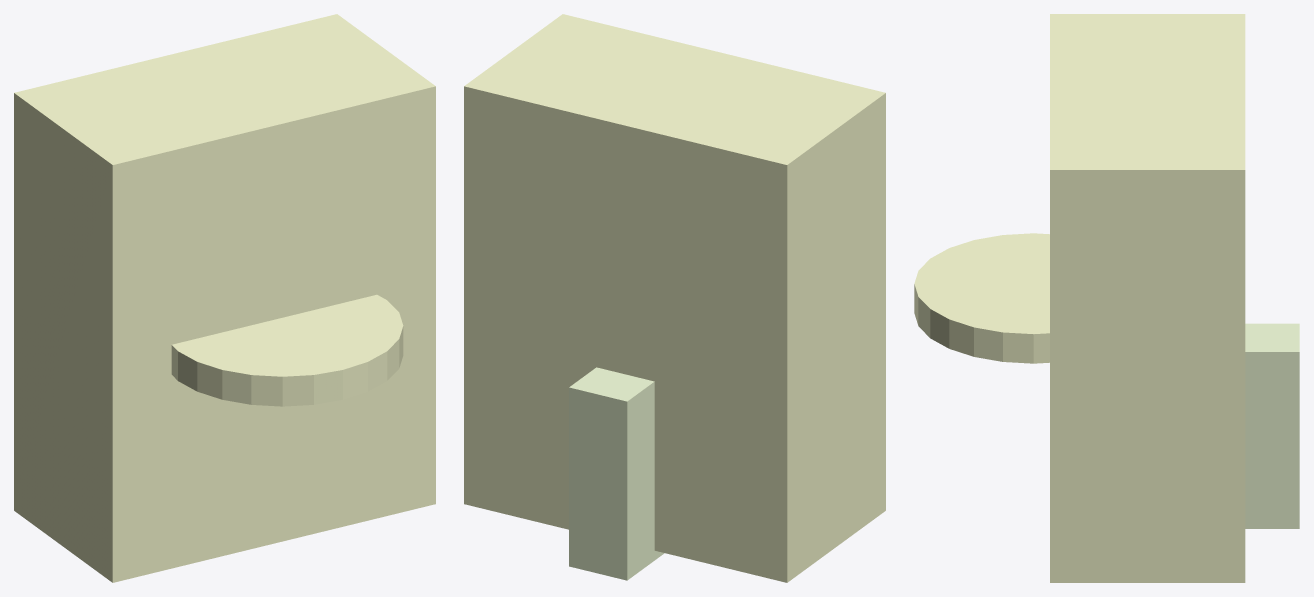
The model's file is signal_preemption_beacon_lunar_single.glb.
3 views of the same model, side by side, from view 1: azimuth 30°, elevation 25°; view 2: azimuth 150°, elevation 25°; view 3: azimuth 270°, elevation 25° (orthographic).
Visible parts, largest first — view 1: housing, lens_preempt_lunar; view 2: housing, bracket; view 3: housing, lens_preempt_lunar, bracket.
Part boxes in pixels (x1,y1,x2,y2): housing: (14, 14, 435, 582); lens_preempt_lunar: (171, 294, 403, 406); housing: (464, 14, 885, 582); bracket: (569, 367, 664, 580); housing: (1050, 14, 1245, 582); lens_preempt_lunar: (914, 233, 1049, 363); bracket: (1245, 323, 1299, 528).
Size of the model in its own units: 0.34 by 0.43 by 0.355.
